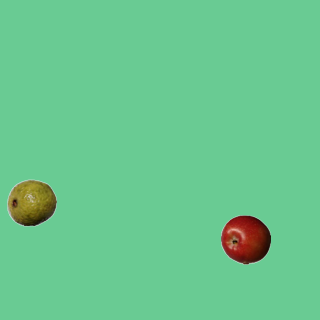Apple Braeburn: (220, 214, 270, 264)
Guava: (6, 177, 56, 227)
